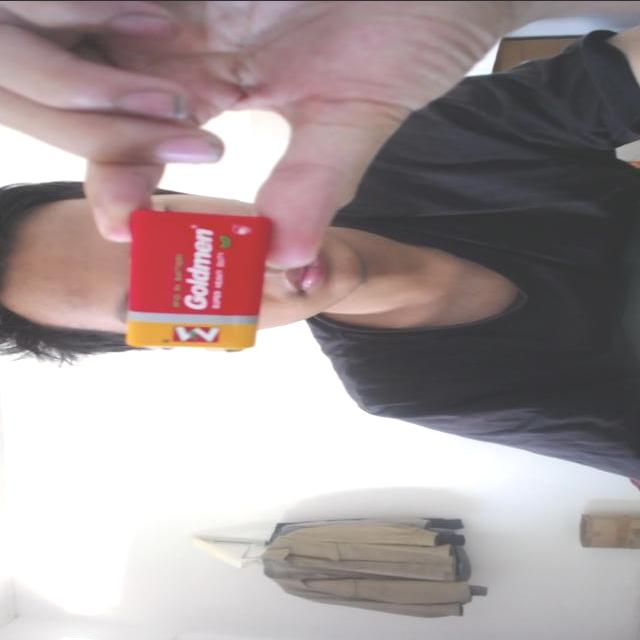9V: (106, 197, 282, 361)
